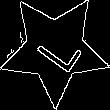L_NW: (27, 22, 83, 77)
